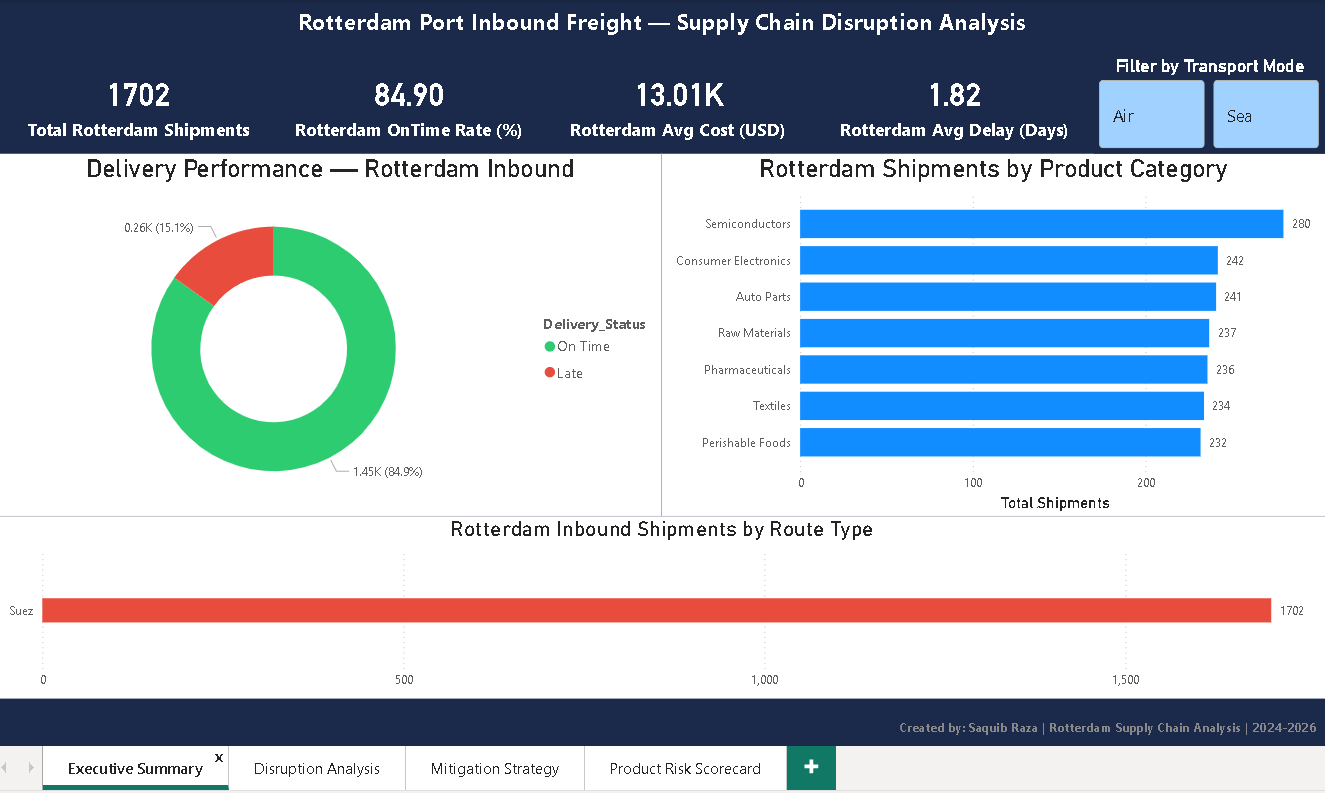

The dashboard page shown, as its layout file describes it:
{"tool":"powerbi","page":{"name":"Executive Summary","canvas":[1280,720],"ordinal":0},"visuals":[{"type":"card","fields":{"Values":["disruption.Total Rotterdam Shipments"]},"box":[0,53.1,269,95.3],"z":0},{"type":"card","fields":{"Values":["disruption.Rotterdam OnTime Rate"]},"box":[269,53.1,254.6,95.3],"z":1000},{"type":"card","fields":{"Values":["disruption.Rotterdam Avg Cost"]},"box":[523.6,53.1,264.2,95.3],"z":2000},{"type":"card","fields":{"Values":["disruption.Rotterdam Avg Delay"]},"box":[787.8,53.1,269,95.3],"z":3000},{"type":"donutChart","title":"Delivery Performance — Rotterdam Inbound","fields":{"Category":["shipments.Delivery_Status"],"Y":["CountNonNull(shipments.Order_ID)"]},"box":[0,148.2,639.5,349.9],"z":4000},{"type":"clusteredBarChart","title":"Rotterdam Shipments by Product Category","fields":{"Category":["shipments.Product_Category"],"Y":["CountNonNull(shipments.Order_ID)"]},"box":[639.5,148.2,640.8,349.9],"z":5000},{"type":"clusteredBarChart","title":"Rotterdam Inbound Shipments by Route Type","fields":{"Category":["shipments.Route_Type"],"Y":["CountNonNull(shipments.Order_ID)"]},"box":[0,498.3,1280,176.1],"z":6000},{"type":"advancedSlicerVisual","title":"Filter by Transport Mode","fields":{"Values":["shipments.Transportation_Mode"]},"box":[1056.8,53.1,223.2,95.3],"z":7000},{"type":"textbox","box":[0,0,1280,52.5],"z":8000},{"type":"textbox","box":[865,687.7,415,32.6],"z":9000}]}

Visuals, with their boxes on the page's 1280x720 design canvas (x1, y1, x2, y2). These are canvas units, not pixel positions in the 1325x793 screenshot, which may show the page scaled, cropped or inside an application window:
card - disruption.Total Rotterdam Shipments: {"left": 0, "top": 53, "right": 269, "bottom": 148}
card - disruption.Rotterdam OnTime Rate: {"left": 269, "top": 53, "right": 524, "bottom": 148}
card - disruption.Rotterdam Avg Cost: {"left": 524, "top": 53, "right": 788, "bottom": 148}
card - disruption.Rotterdam Avg Delay: {"left": 788, "top": 53, "right": 1057, "bottom": 148}
"Delivery Performance — Rotterdam Inbound" donutChart: {"left": 0, "top": 148, "right": 640, "bottom": 498}
"Rotterdam Shipments by Product Category" clusteredBarChart: {"left": 640, "top": 148, "right": 1280, "bottom": 498}
"Rotterdam Inbound Shipments by Route Type" clusteredBarChart: {"left": 0, "top": 498, "right": 1280, "bottom": 674}
"Filter by Transport Mode" advancedSlicerVisual: {"left": 1057, "top": 53, "right": 1280, "bottom": 148}
textbox: {"left": 0, "top": 0, "right": 1280, "bottom": 52}
textbox: {"left": 865, "top": 688, "right": 1280, "bottom": 720}
